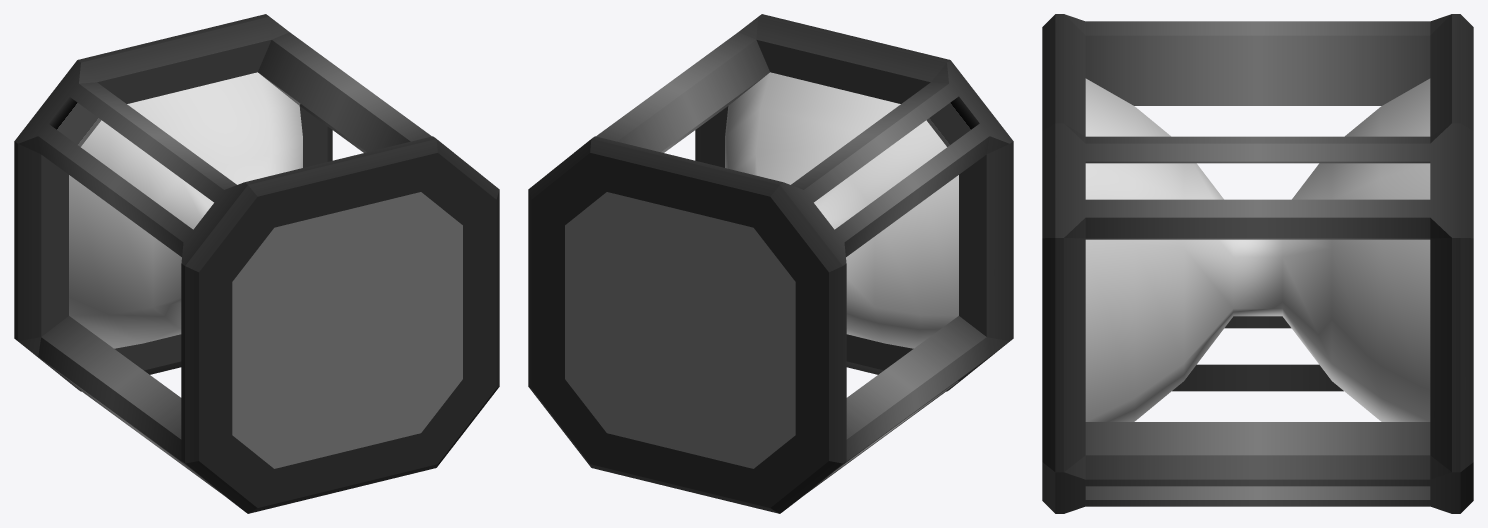
The model's file is Leg_TimeController_1X1.FBX.
3 renders of one model, left to right at view 1: azimuth 30°, elevation 25°; view 2: azimuth 150°, elevation 25°; view 3: azimuth 270°, elevation 25°, orthographic. The views are drawn at different scales.
Parts seen in each view (by area): view 1: Box002; view 2: Box002; view 3: Box002.
Boxes of the visible parts, bbox=[...] form: Box002: bbox=[14, 14, 499, 513]; Box002: bbox=[528, 14, 1013, 513]; Box002: bbox=[1042, 14, 1473, 513].
Bounding box in the file's own units: 1 × 1 × 1.
